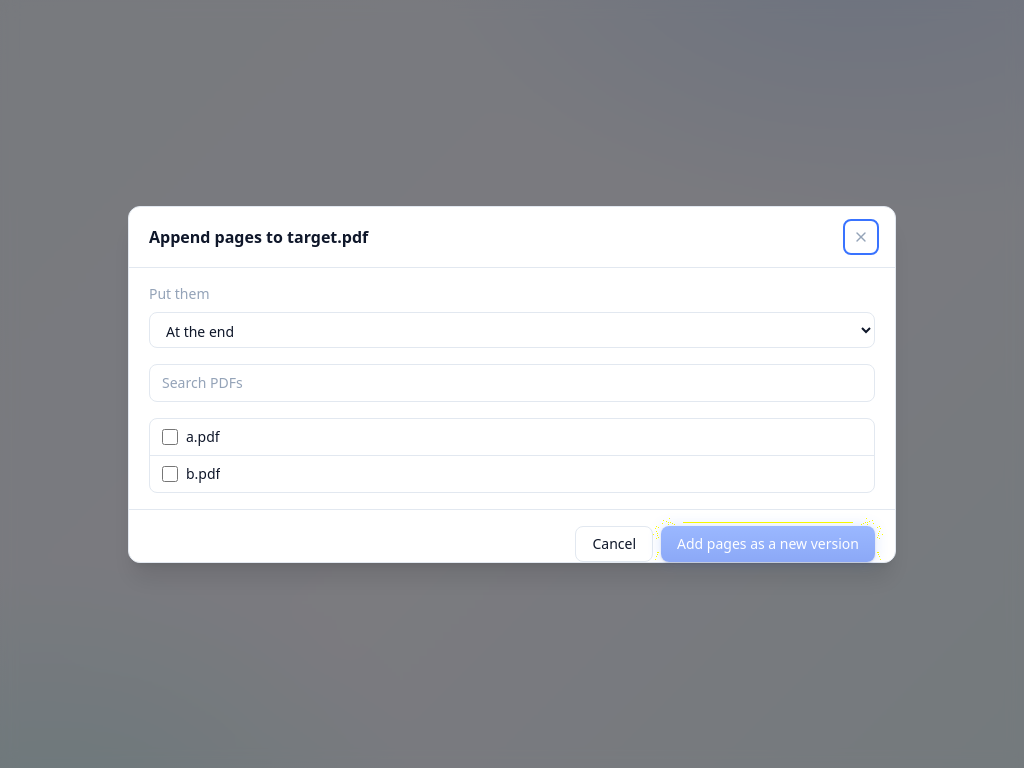
Test: AppendPagesModal › shows the server error and stays open
Expected: the text "a.pdf" is shown, x1=186 y1=426 x2=220 y2=446
Step 1. Click the checkbox named "Add pages from a.pdf" → click(170, 436), box x1=162 y1=428 x2=178 y2=444
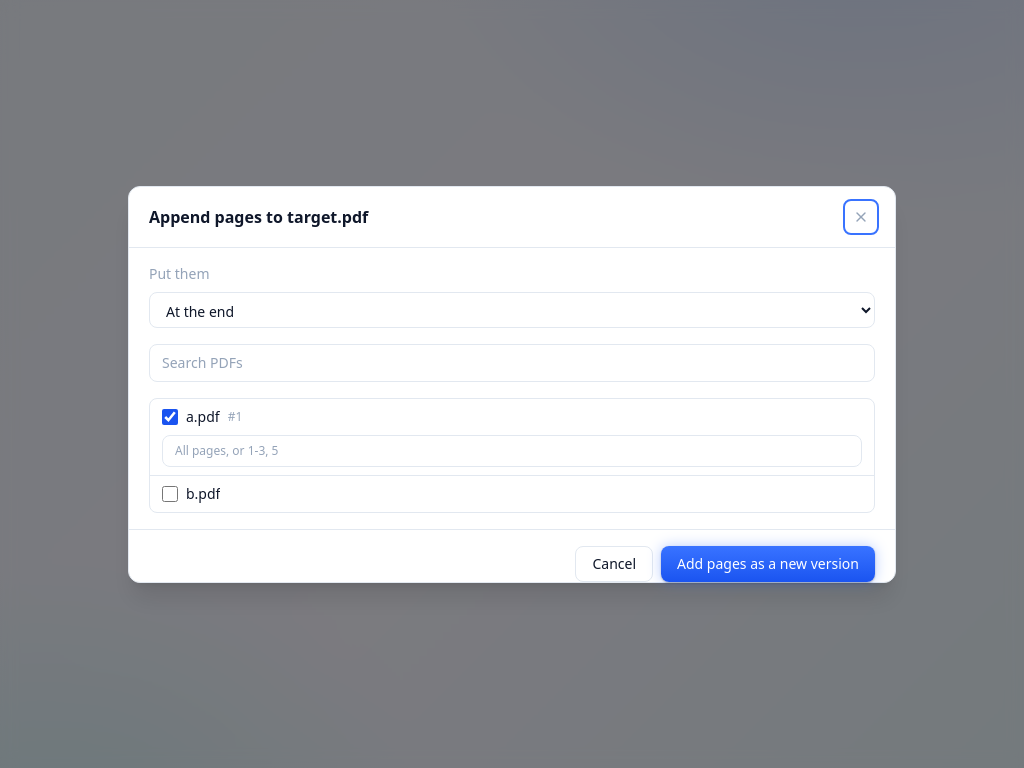
Step 2. Click the button with test id "append-pages-save" → click(768, 564), box x1=661 y1=546 x2=875 y2=582
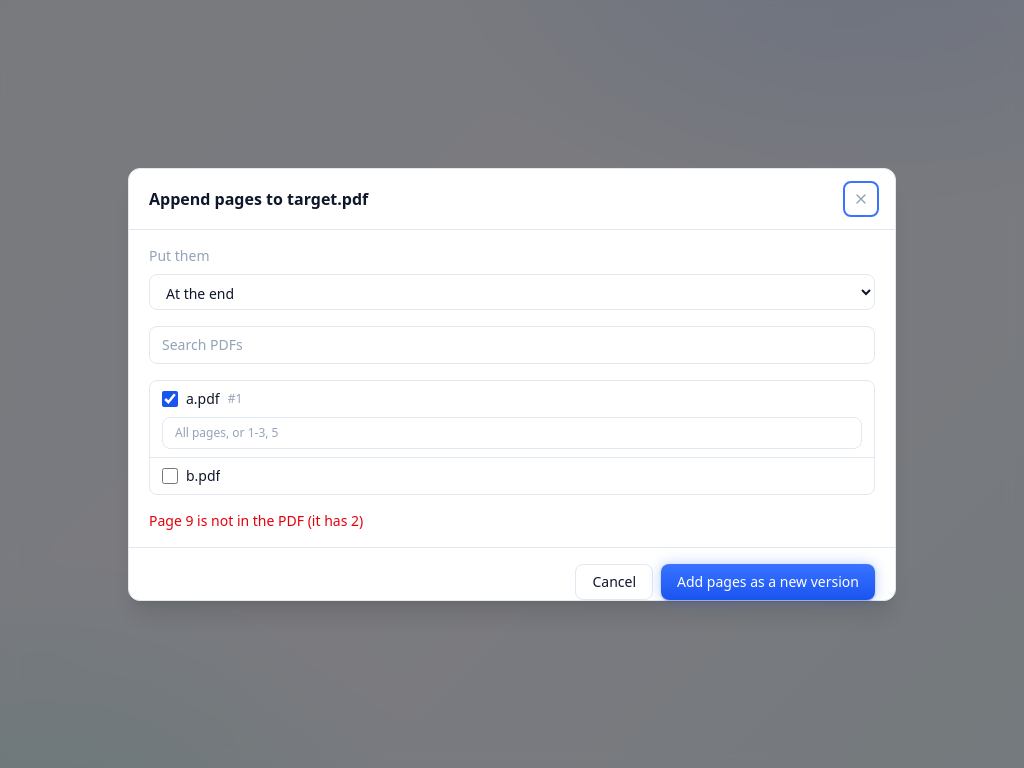
Expected: the message shows "Page 9", x1=149 y1=510 x2=363 y2=530
